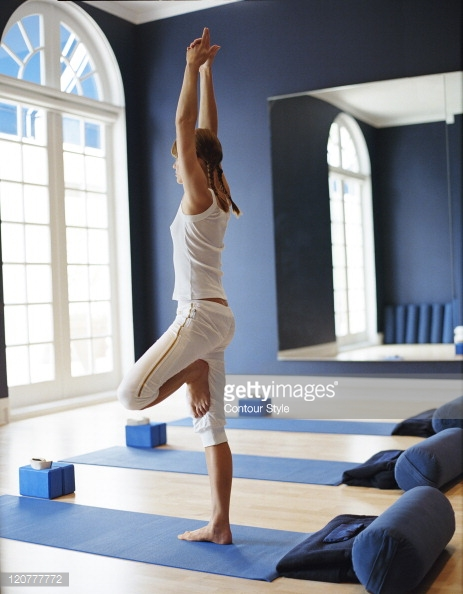em pe: (109, 62, 279, 562)
